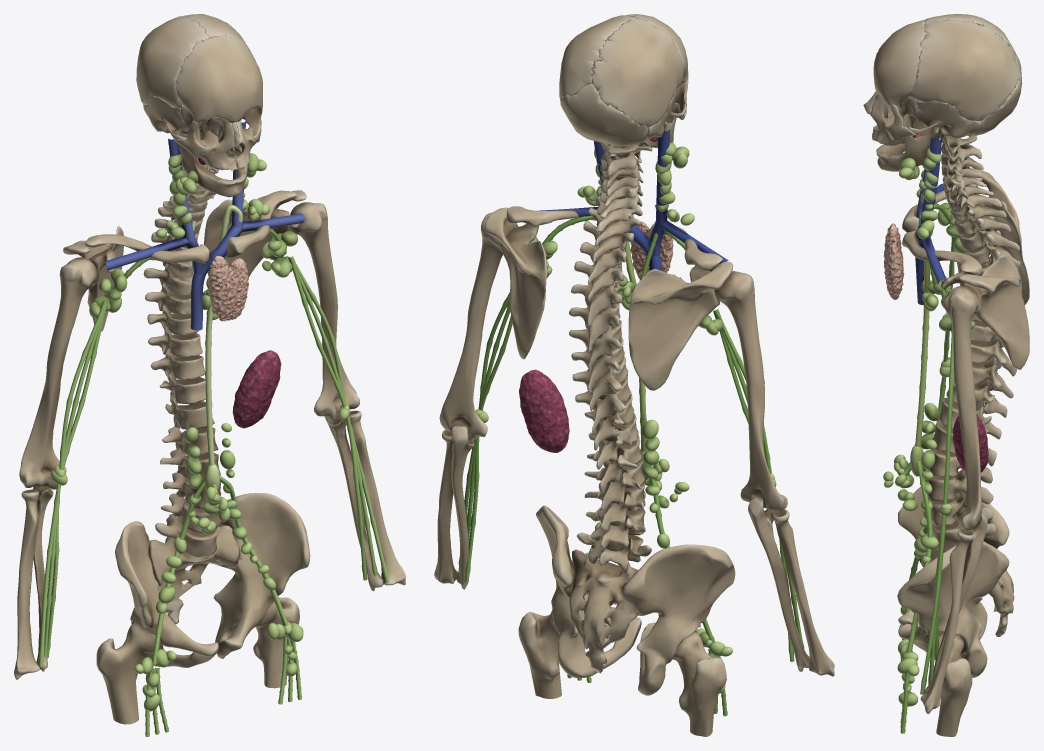
File: lymphatic.76b54a88.glb
3 renders of one model, left to right at view 1: azimuth 30°, elevation 25°; view 2: azimuth 150°, elevation 25°; view 3: azimuth 270°, elevation 25°, orthographic. The views are drawn at different scales.
Parts seen in each view (by area): view 1: Skeletal frame, Lymphatic vessels, Great veins, Abdominal and pelvic nodes, Axillary nodes, Spleen, Cervical nodes, Thymus, Inguinal nodes, Thoracic duct and cisterna chyli, Mesenteric nodes; view 2: Skeletal frame, Lymphatic vessels, Spleen, Great veins, Cervical nodes, Abdominal and pelvic nodes, Thymus, Axillary nodes, Thoracic duct and cisterna chyli, Mesenteric nodes; view 3: Skeletal frame, Lymphatic vessels, Abdominal and pelvic nodes, Great veins, Cervical nodes, Thoracic duct and cisterna chyli, Thymus, Axillary nodes, Inguinal nodes, Mesenteric nodes, Spleen, Mediastinal nodes.
Part boxes in pixels (x1,y1,x2,y2): Skeletal frame: (14, 14, 405, 724); Lymphatic vessels: (39, 228, 389, 736); Great veins: (104, 122, 304, 330); Abdominal and pelvic nodes: (156, 423, 275, 613); Axillary nodes: (51, 231, 349, 485); Spleen: (232, 350, 281, 428); Cervical nodes: (155, 153, 270, 238); Thymus: (208, 256, 248, 321); Inguinal nodes: (134, 621, 303, 711); Thoracic duct and cisterna chyli: (191, 205, 242, 490); Mesenteric nodes: (190, 486, 241, 533); Skeletal frame: (434, 14, 834, 736); Lymphatic vessels: (458, 216, 804, 716); Spleen: (519, 369, 569, 452); Great veins: (539, 129, 728, 270); Cervical nodes: (577, 142, 694, 225); Abdominal and pelvic nodes: (585, 419, 669, 555); Thymus: (630, 221, 673, 279); Axillary nodes: (475, 237, 776, 487); Thoracic duct and cisterna chyli: (624, 205, 656, 480); Mesenteric nodes: (643, 459, 689, 508); Skeletal frame: (863, 14, 1029, 736); Lymphatic vessels: (900, 203, 955, 733); Abdominal and pelvic nodes: (911, 403, 939, 612); Great veins: (915, 133, 947, 304); Cervical nodes: (899, 148, 941, 239); Thoracic duct and cisterna chyli: (910, 193, 930, 476); Thymus: (883, 223, 904, 299); Axillary nodes: (937, 202, 975, 516); Inguinal nodes: (897, 594, 919, 706); Mesenteric nodes: (883, 454, 917, 511); Spleen: (953, 414, 988, 472); Mediastinal nodes: (921, 276, 950, 311).
Bounding box in the file's own units: 2.33 × 3.86 × 0.8609.
